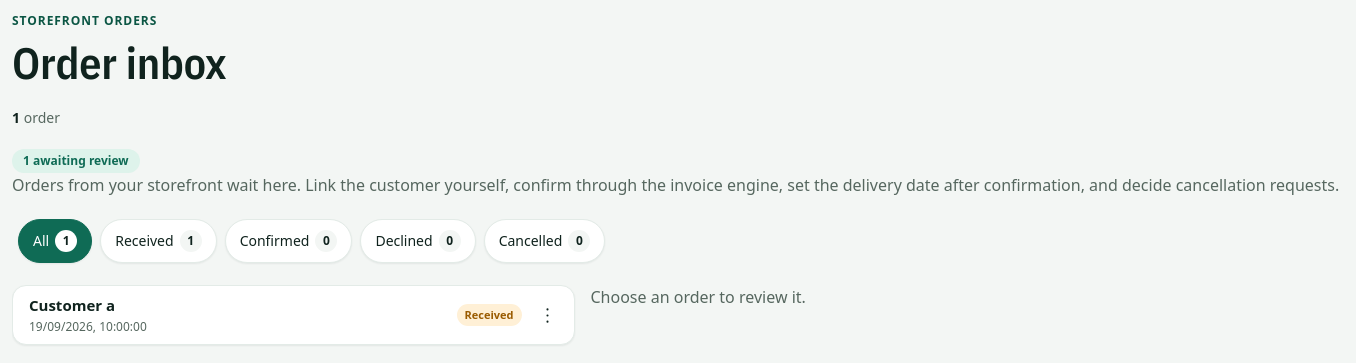
Test: an empty state filter can be cleared without losing loaded orders
Expected: the button "Customer a 19/09/2026, 10:00:00 Received" is shown, [13,286,526,344]
What coordinates should you click on to do the following:
click the button "Declined 0"
I would click on:
 (418, 241)
Its box is [360,219,476,263].
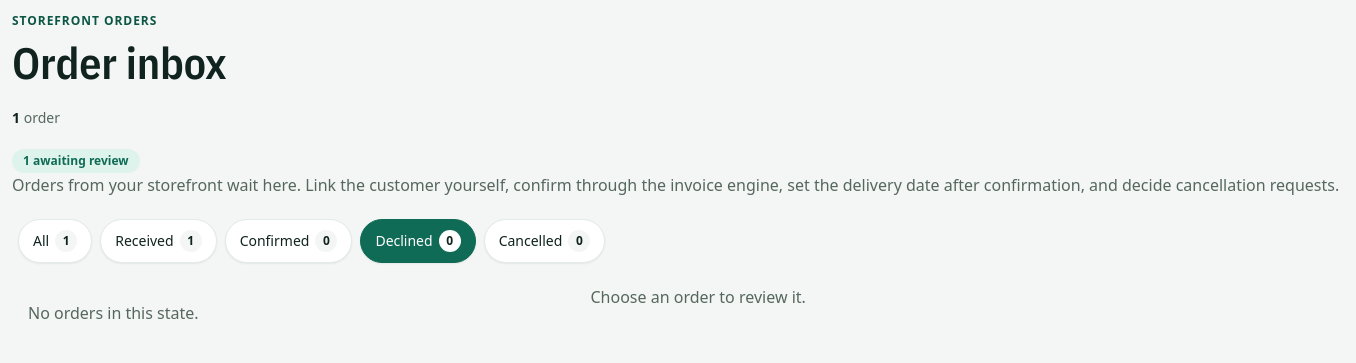
Now the list item "No orders in this state." is shown, box [28,302,199,324]
What coordinates should you click on to do the following:
click the button "All 1"
I would click on:
 (55, 241)
Its box is [18,219,92,263].
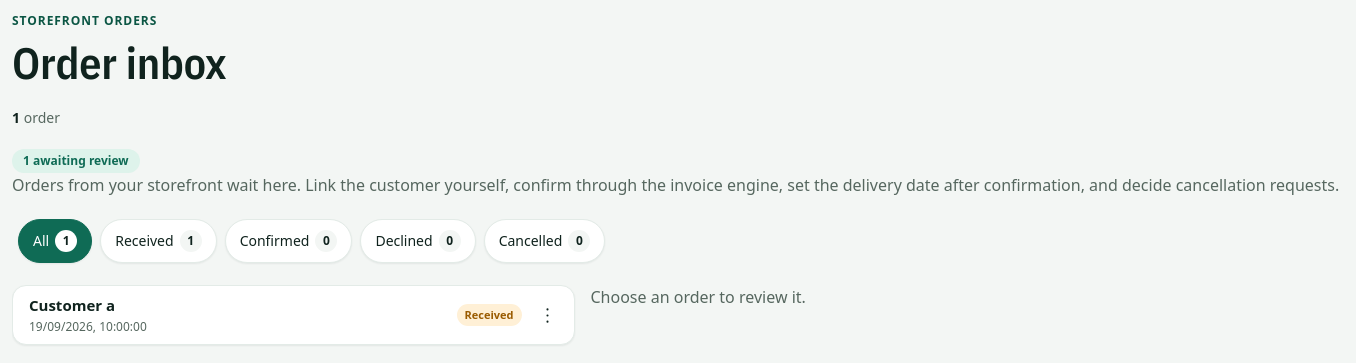
Now the button "Customer a 19/09/2026, 10:00:00 Received" is shown, box [13,286,526,344]
